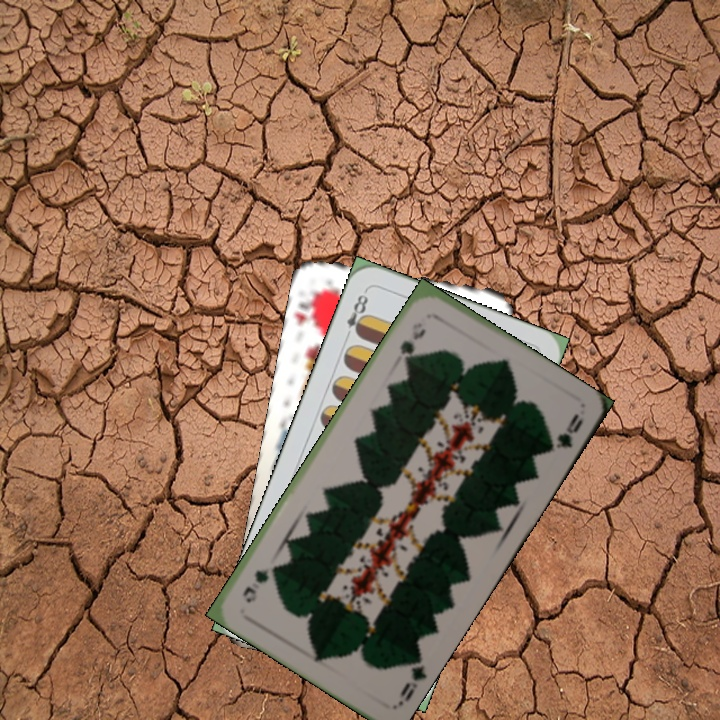E8: (341, 286, 371, 343)
G9: (394, 652, 429, 709), (396, 318, 429, 366)
HK: (291, 282, 325, 330)
